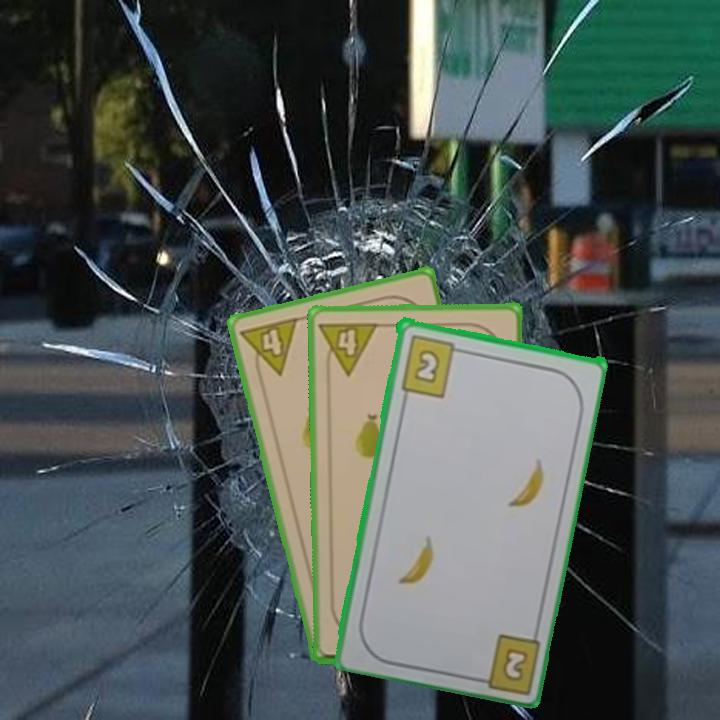2b: (397, 331, 467, 399), (500, 643, 531, 681)
4p: (237, 313, 301, 383), (316, 317, 381, 378)
